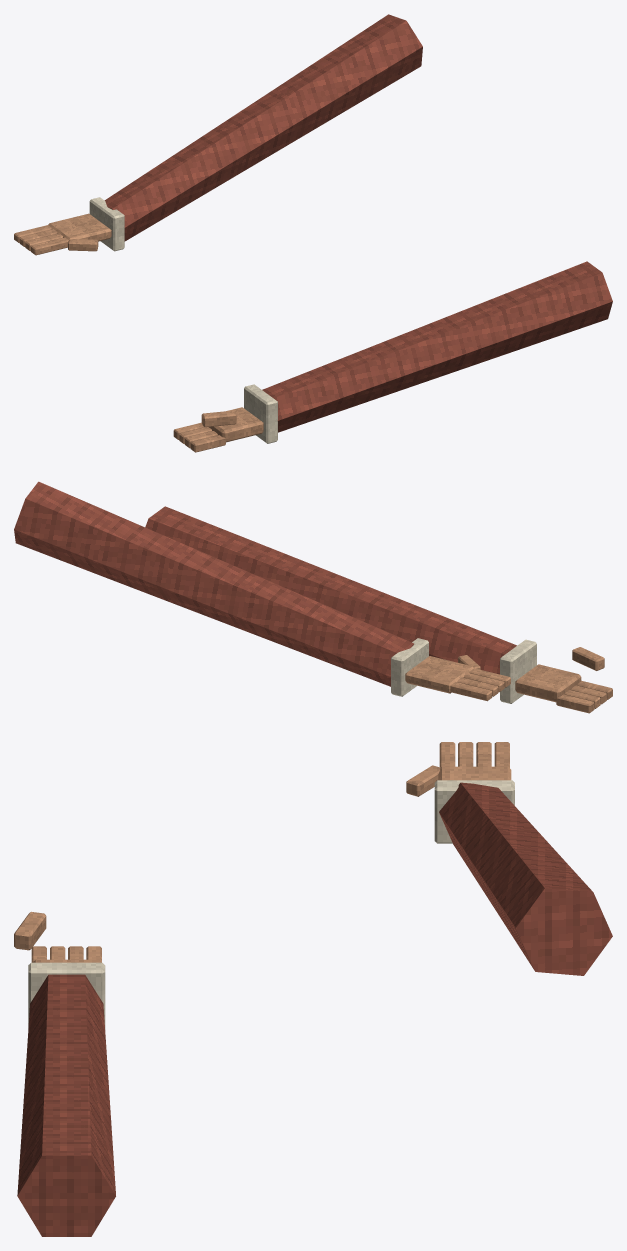
Rendered from customer_hand.glb.
The picture shows the model from 3 angles, top to bottom: view 1: azimuth 30°, elevation 25°; view 2: azimuth 150°, elevation 25°; view 3: azimuth 270°, elevation 25°; orthographic projection. The views are drawn at different scales.
Visible parts, largest first — view 1: hold_sleeve, slap_sleeve, slap_skin, hold_skin, hold_cuff, slap_cuff; view 2: slap_sleeve, hold_sleeve, hold_skin, slap_skin, hold_cuff, slap_cuff; view 3: hold_sleeve, slap_sleeve, slap_skin, hold_skin, hold_cuff, slap_cuff.
Boxes of the visible parts, left/top/right/bottom form: hold_sleeve: left=262, top=261, right=612, bottom=432; slap_sleeve: left=104, top=14, right=422, bottom=241; slap_skin: left=14, top=213, right=111, bottom=255; hold_skin: left=173, top=407, right=263, bottom=452; hold_cuff: left=244, top=384, right=277, bottom=443; slap_cuff: left=89, top=197, right=124, bottom=251; slap_sleeve: left=14, top=481, right=413, bottom=686; hold_sleeve: left=145, top=506, right=516, bottom=674; hold_skin: left=515, top=647, right=612, bottom=713; slap_skin: left=405, top=655, right=510, bottom=701; hold_cuff: left=500, top=639, right=536, bottom=703; slap_cuff: left=391, top=638, right=428, bottom=696; hold_sleeve: left=17, top=974, right=115, bottom=1236; slap_sleeve: left=439, top=782, right=612, bottom=975; slap_skin: left=406, top=742, right=511, bottom=796; hold_skin: left=14, top=911, right=101, bottom=962; hold_cuff: left=28, top=962, right=105, bottom=1029; slap_cuff: left=434, top=780, right=514, bottom=843.
Size of the model in its own units: 5.92 by 2.94 by 4.26.
3 materials, 3 textured.
